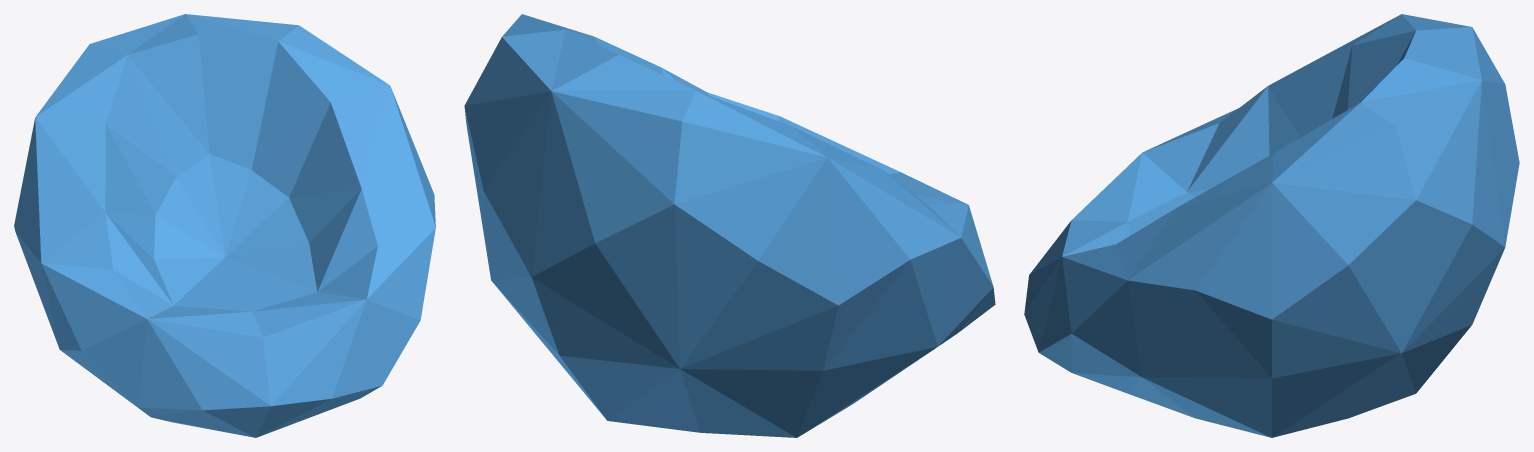
File: bean_chair.fbx
3 renders of one model, left to right at view 1: azimuth 30°, elevation 25°; view 2: azimuth 150°, elevation 25°; view 3: azimuth 270°, elevation 25°, orthographic. The views are drawn at different scales.
Visible parts, largest first — view 1: beanChair; view 2: beanChair; view 3: beanChair.
Part boxes in pixels (bbox=[...]): beanChair: bbox=[14, 14, 435, 437]; beanChair: bbox=[464, 14, 995, 437]; beanChair: bbox=[1024, 14, 1519, 437].
Size of the model in its own units: 133 by 99.29 by 134.
